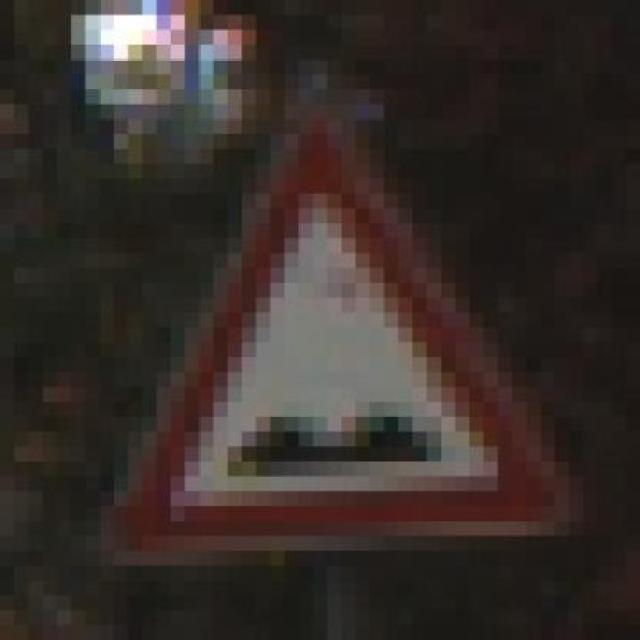Uneven Road: (85, 89, 583, 551)
